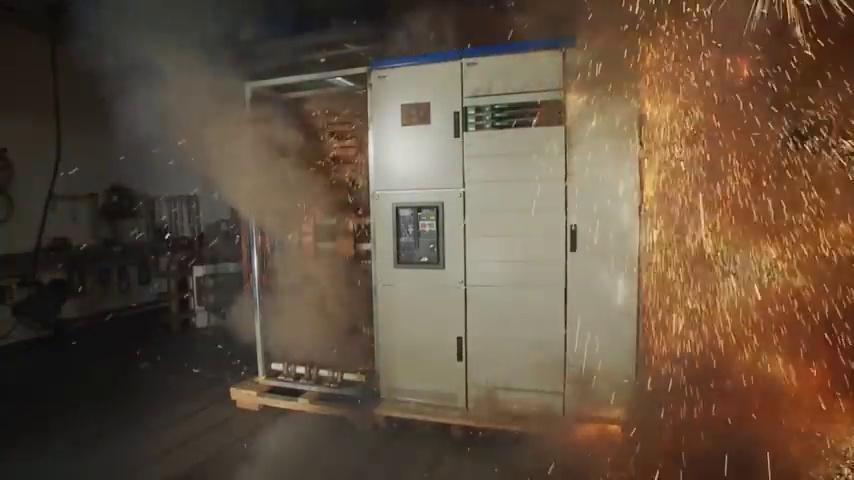fire: (596, 203, 854, 480), (614, 1, 853, 231)
